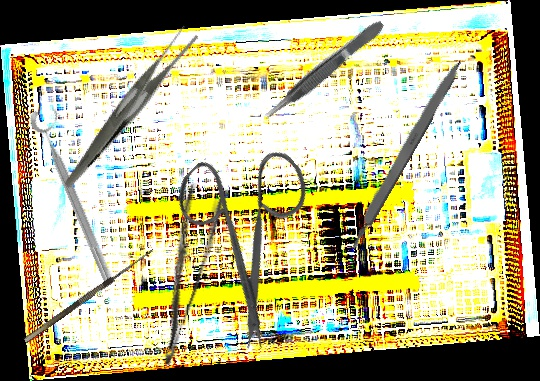Dressing Forceps: (27, 22, 230, 189), (132, 181, 230, 369)
Fixation Ring: (26, 102, 128, 285)
Hook Surgical: (18, 241, 156, 344)
Iris Scissors: (132, 115, 373, 356)
Scalpel Handle: (344, 56, 465, 251)
Tissue Forceps: (259, 17, 389, 125)
